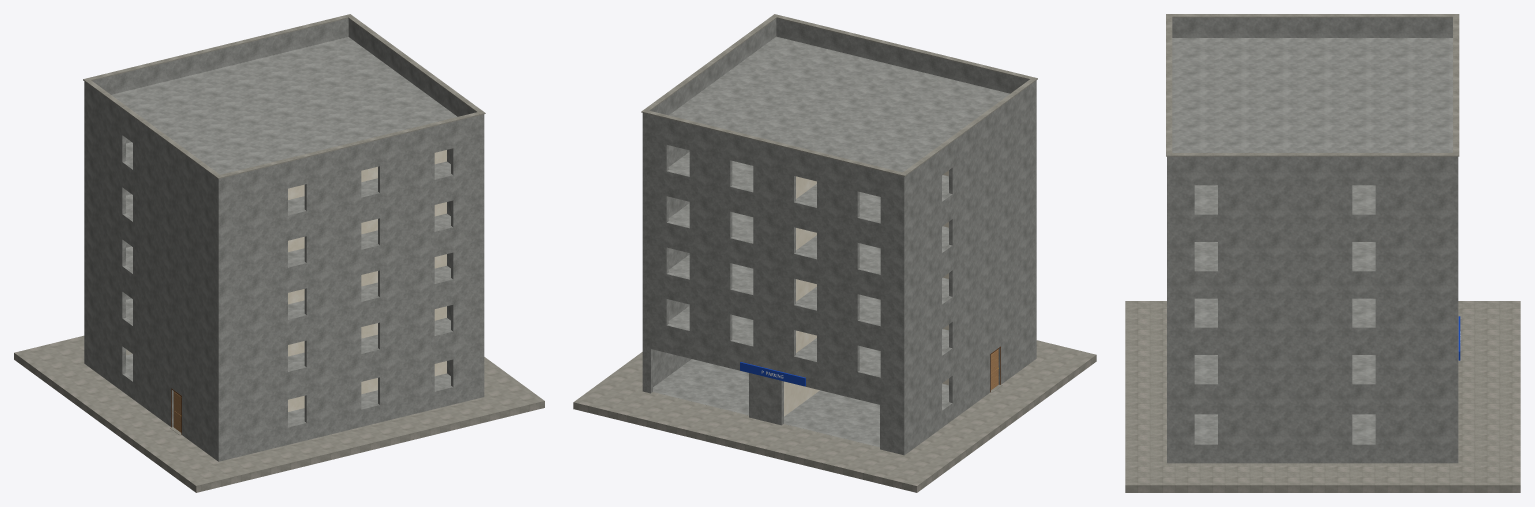
The model's file is b_parking_tower.gltf.
The picture shows the model from 3 angles, left to right: view 1: azimuth 30°, elevation 25°; view 2: azimuth 150°, elevation 25°; view 3: azimuth 270°, elevation 25°; orthographic projection. The views are drawn at different scales.
Visible parts, largest first — view 1: S_parking_tower; view 2: S_parking_tower; view 3: S_parking_tower.
Part boxes in pixels (box(x1,y1,x2,y2)): S_parking_tower: box(14, 14, 544, 492); S_parking_tower: box(573, 14, 1096, 492); S_parking_tower: box(1125, 14, 1520, 492).
Size of the model in its own units: 21 by 16.76 by 19.
Materials: 13 (8 with a texture image).
